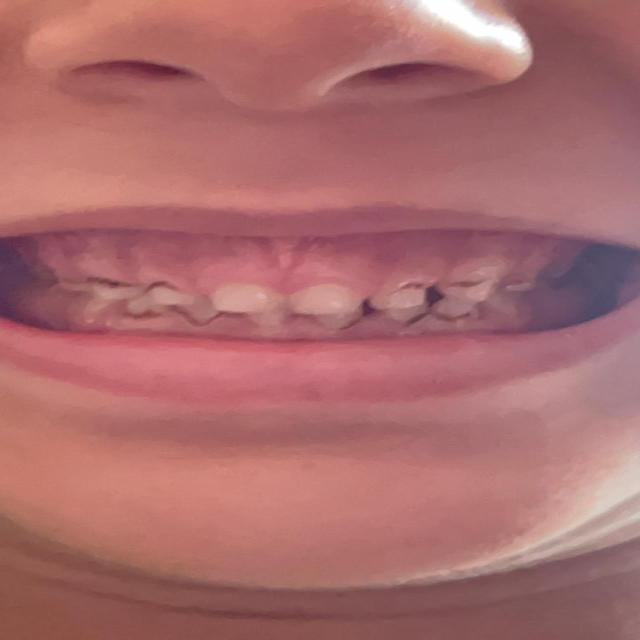tooth: (212, 290, 276, 308), (302, 290, 349, 312), (147, 282, 189, 300), (376, 292, 422, 308), (375, 310, 421, 326), (182, 303, 219, 321), (446, 283, 482, 301), (121, 304, 165, 318), (236, 313, 287, 325), (95, 283, 132, 296), (310, 311, 348, 323), (447, 306, 468, 322)
